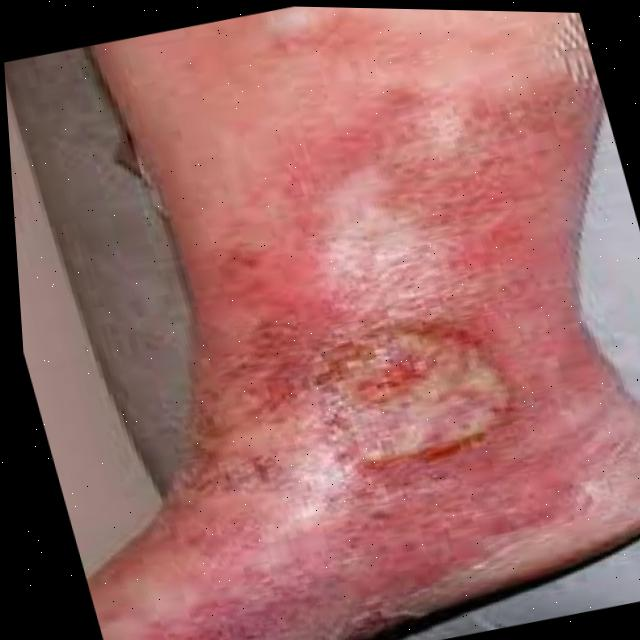Eczema: (189, 171, 560, 597)
